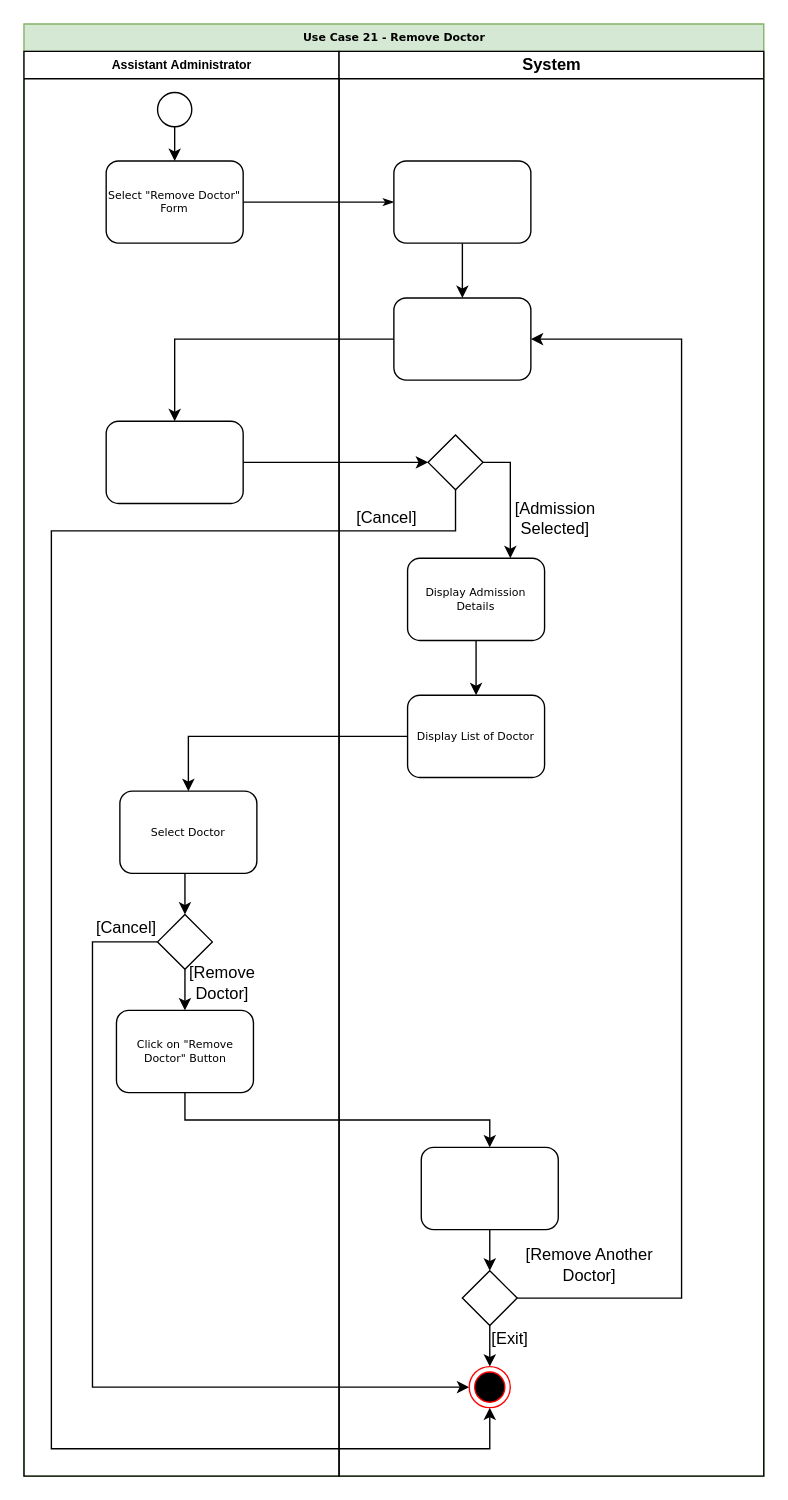
The diagram is 788 pixels wide and 1500 high, and some of its shapes have lost their labels. Each missing label, with the centre of its shape:
Delete Allocation Record: point (489, 1188)
Display "Remove Doctor" Form: point (462, 201)
Display List of Admission: point (462, 338)
Select Option: point (174, 461)
